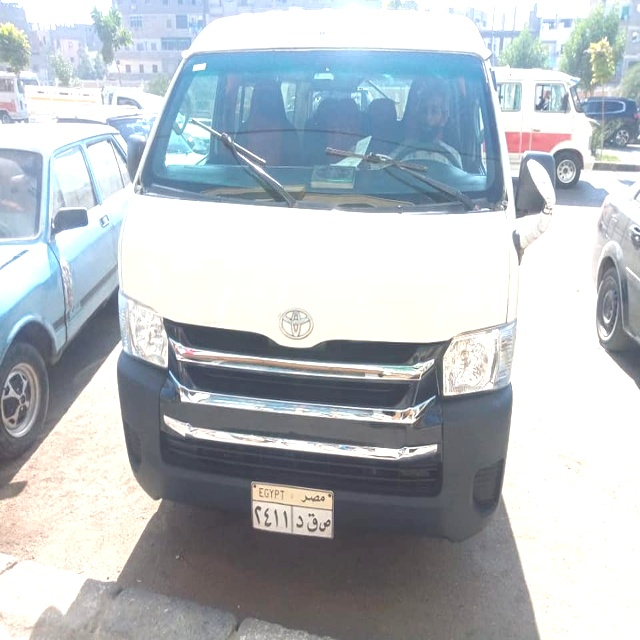License Plate: (248, 480, 337, 545)
